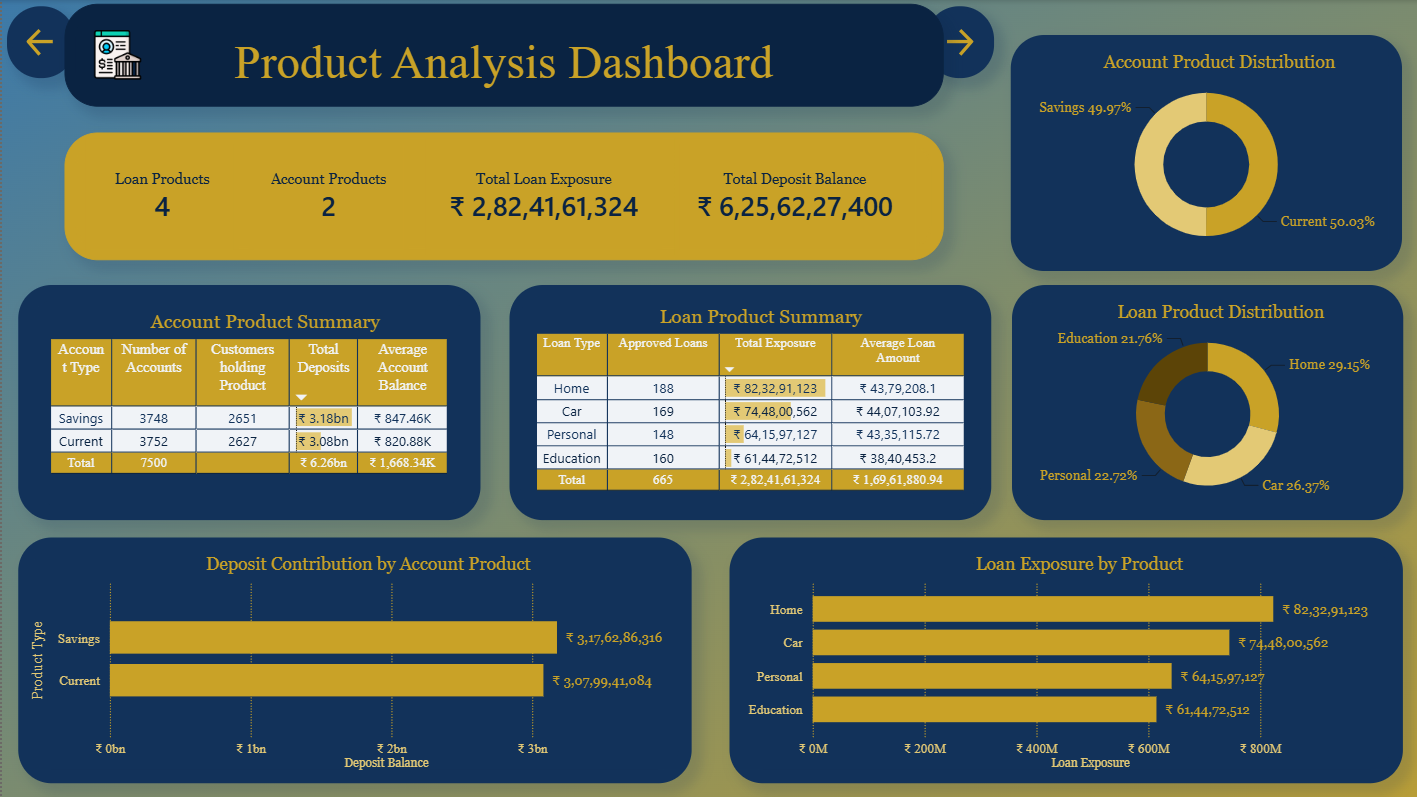

This screenshot's page, from the dashboard's own definition file:
{"tool":"powerbi","page":{"name":"Product Analysis Dashboard","canvas":[1280,720],"ordinal":4},"visuals":[{"type":"actionButton","box":[832.5,6,61.2,65],"z":0},{"type":"actionButton","box":[5,6,61.2,65],"z":1000},{"type":"shape","box":[56.2,3.8,792.5,92.5],"z":2000},{"type":"shape","box":[56.2,119.8,792.5,115],"z":3000},{"type":"cardVisual","fields":{"Data":["vw_account_product_analysis.Total Account Products"]},"box":[222.5,124.8,145,105],"z":4000},{"type":"cardVisual","fields":{"Data":["vw_account_product_analysis.Total Deposit Balance"]},"box":[606.2,124.8,217.5,105],"z":5000},{"type":"cardVisual","fields":{"Data":["vw_loan_product_analysis.Total Loan Products"]},"box":[75,124.8,138.8,105],"z":6000},{"type":"cardVisual","fields":{"Data":["vw_loan_product_analysis.Total Loan Exposure"]},"box":[382.5,124.8,213.8,105],"z":7000},{"type":"donutChart","title":"Account Product Distribution","fields":{"Category":["vw_account_product_analysis.Account_Type"],"Y":["Sum(vw_account_product_analysis.Number_of_Accounts)"]},"box":[910,31.2,352.5,212.5],"z":8000},{"type":"clusteredBarChart","title":"Deposit Contribution by Account Product","fields":{"Category":["vw_account_product_analysis.Account_Type"],"Y":["Sum(vw_account_product_analysis.Total_Deposit_Balance)"]},"box":[14.8,484.9,607.3,221.4],"z":9000},{"type":"clusteredBarChart","title":"Loan Exposure by Product","fields":{"Category":["vw_loan_product_analysis.Loan_Type"],"Y":["Sum(vw_loan_product_analysis.Total_Loan_Exposure)"]},"box":[655.6,484.9,607,221.4],"z":10000},{"type":"donutChart","title":"Loan Product Distribution","fields":{"Category":["vw_loan_product_analysis.Loan_Type"],"Y":["Sum(vw_loan_product_analysis.Total_Loan_Exposure)"]},"box":[910.4,257.3,352.5,212],"z":11000},{"type":"tableEx","title":"Account Product Summary","fields":{"Values":["vw_account_product_analysis.Account_Type","Sum(vw_account_product_analysis.Number_of_Accounts)","vw_account_product_analysis.Number_of_Customers","Sum(vw_account_product_analysis.Total_Deposit_Balance)","Sum(vw_account_product_analysis.Average_Account_Balance)"]},"box":[14.8,257.3,416.9,212],"z":12000},{"type":"tableEx","title":"Loan Product Summary","fields":{"Values":["vw_loan_product_analysis.Loan_Type","Sum(vw_loan_product_analysis.Number_of_Approved_Loans)","Sum(vw_loan_product_analysis.Total_Loan_Exposure)","Sum(vw_loan_product_analysis.Average_Loan_Size)"]},"box":[457.7,257.3,434.2,212],"z":13000},{"type":"textbox","box":[161,8.8,582.5,80],"z":14000},{"type":"image","box":[75,27.5,57.5,45],"z":15000}]}

Visuals, with their boxes in screenshot pixels (x1, y1, x2, y2), scaled from the page's 1280x720 canvas onto the 1417x797 screenshot:
actionButton: {"left": 922, "top": 7, "right": 989, "bottom": 79}
actionButton: {"left": 6, "top": 7, "right": 73, "bottom": 79}
shape: {"left": 62, "top": 4, "right": 940, "bottom": 107}
shape: {"left": 62, "top": 133, "right": 940, "bottom": 260}
cardVisual - vw_account_product_analysis.Total Account Products: {"left": 246, "top": 138, "right": 407, "bottom": 254}
cardVisual - vw_account_product_analysis.Total Deposit Balance: {"left": 671, "top": 138, "right": 912, "bottom": 254}
cardVisual - vw_loan_product_analysis.Total Loan Products: {"left": 83, "top": 138, "right": 237, "bottom": 254}
cardVisual - vw_loan_product_analysis.Total Loan Exposure: {"left": 423, "top": 138, "right": 660, "bottom": 254}
"Account Product Distribution" donutChart: {"left": 1007, "top": 35, "right": 1398, "bottom": 270}
"Deposit Contribution by Account Product" clusteredBarChart: {"left": 16, "top": 537, "right": 689, "bottom": 782}
"Loan Exposure by Product" clusteredBarChart: {"left": 726, "top": 537, "right": 1398, "bottom": 782}
"Loan Product Distribution" donutChart: {"left": 1008, "top": 285, "right": 1398, "bottom": 519}
"Account Product Summary" tableEx: {"left": 16, "top": 285, "right": 478, "bottom": 519}
"Loan Product Summary" tableEx: {"left": 507, "top": 285, "right": 987, "bottom": 519}
textbox: {"left": 178, "top": 10, "right": 823, "bottom": 98}
image: {"left": 83, "top": 30, "right": 147, "bottom": 80}
